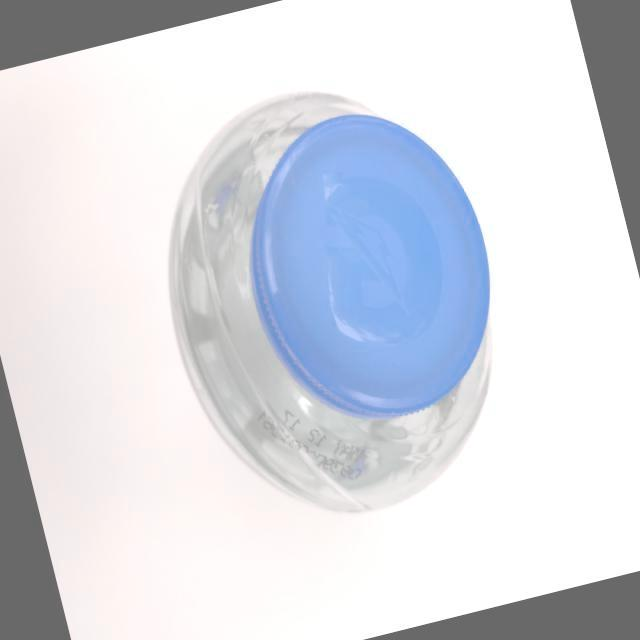plastic: (109, 31, 564, 564)
